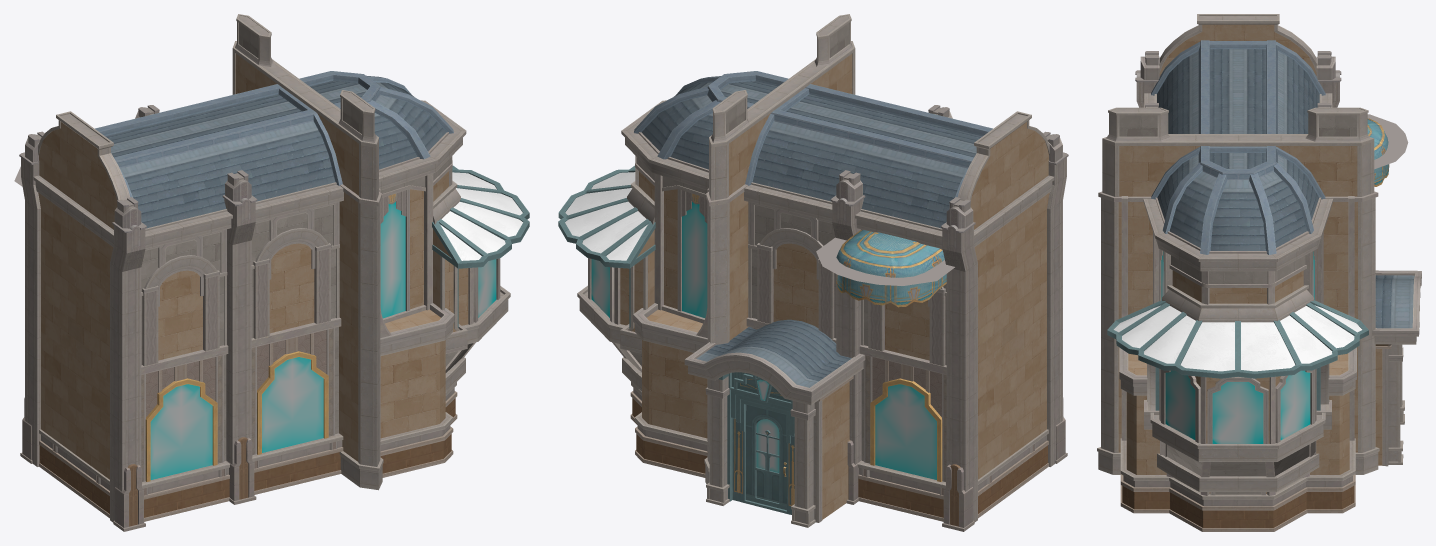
File: Homeworld_Exterior_Fd_Build_ZhuchengJz_01_Lod0.fbx
3 views of the same model, side by side, from view 1: azimuth 30°, elevation 25°; view 2: azimuth 150°, elevation 25°; view 3: azimuth 270°, elevation 25° (orthographic). The views are drawn at different scales.
Visible parts, largest first — view 1: Homeworld_Exterior_Fd_Build_ZhuchengJz_01_Lod0; view 2: Homeworld_Exterior_Fd_Build_ZhuchengJz_01_Lod0, Area_Fd_Prop_FDC_Pengzi_01_Ocl; view 3: Homeworld_Exterior_Fd_Build_ZhuchengJz_01_Lod0, Area_Fd_Prop_FDC_Pengzi_01_Ocl.
Boxes of the visible parts, left/top/right/bottom form: Homeworld_Exterior_Fd_Build_ZhuchengJz_01_Lod0: left=19, top=14, right=529, bottom=531; Homeworld_Exterior_Fd_Build_ZhuchengJz_01_Lod0: left=558, top=14, right=1068, bottom=531; Area_Fd_Prop_FDC_Pengzi_01_Ocl: left=816, top=237, right=954, bottom=285; Homeworld_Exterior_Fd_Build_ZhuchengJz_01_Lod0: left=1097, top=14, right=1421, bottom=531; Area_Fd_Prop_FDC_Pengzi_01_Ocl: left=1367, top=114, right=1408, bottom=169.
Size of what is drawn, in the model's own units: 16.43 by 13.44 by 11.01.
